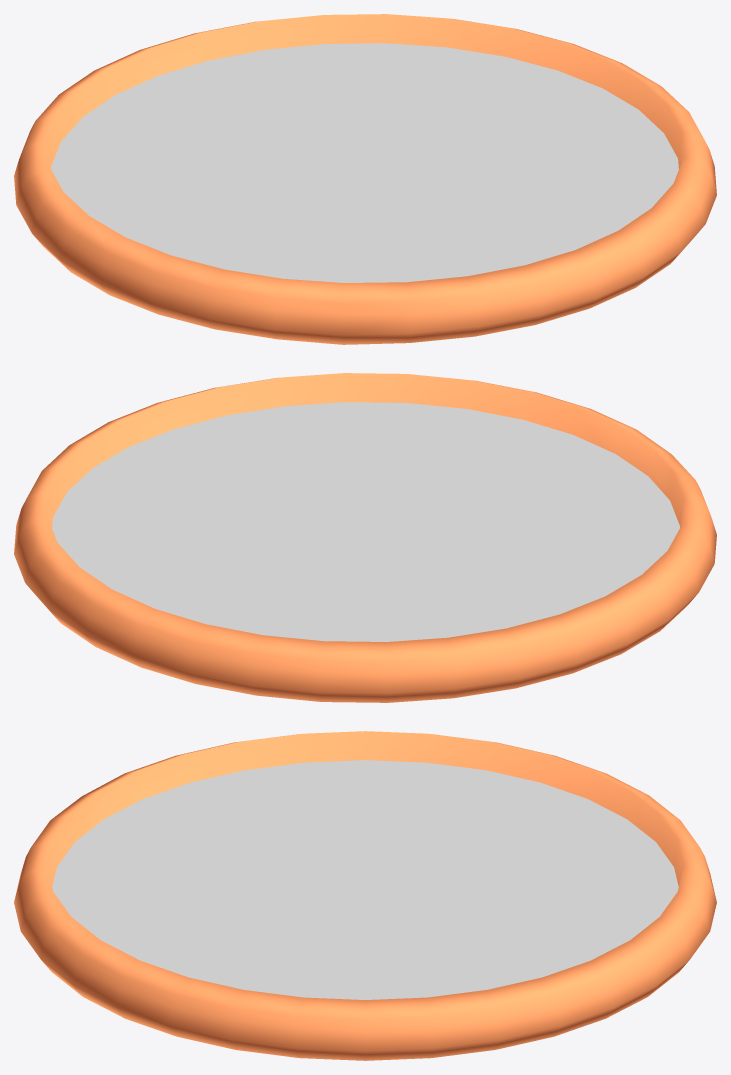
The model's file is pizza_bread3.fbx.
3 views of the same model, one above another, from view 1: azimuth 30°, elevation 25°; view 2: azimuth 150°, elevation 25°; view 3: azimuth 270°, elevation 25° (orthographic).
Parts seen in each view (by area): view 1: Cylinder, Circle; view 2: Cylinder, Circle; view 3: Cylinder, Circle.
Boxes of the visible parts, x1,y1,x2,y2 form: Cylinder: (51, 43, 678, 282); Circle: (14, 14, 716, 344); Cylinder: (52, 402, 679, 641); Circle: (14, 373, 716, 702); Cylinder: (52, 760, 678, 999); Circle: (14, 731, 716, 1060).
Size of the model in its own units: 207 by 17.6 by 207.
